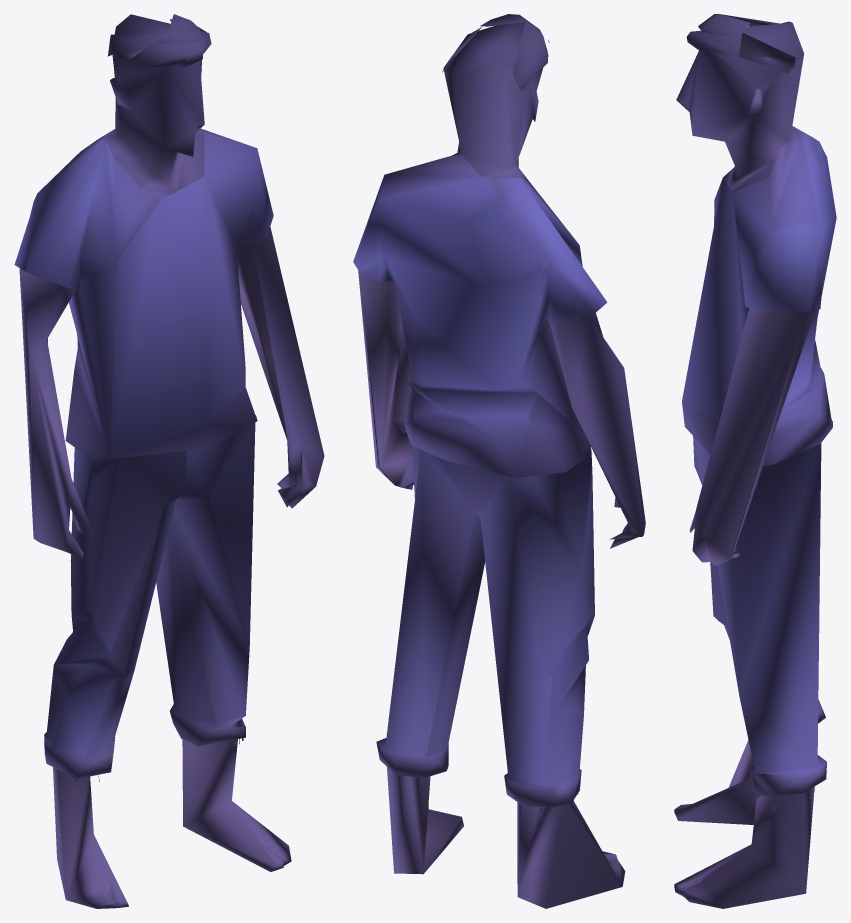
The model's file is model.progressive.glb.
3 views of the same model, side by side, from view 1: azimuth 30°, elevation 25°; view 2: azimuth 150°, elevation 25°; view 3: azimuth 270°, elevation 25° (orthographic).
Parts seen in each view (by area): view 1: material; view 2: material; view 3: material.
Part boxes in pixels (x1=…): material: x1=14, y1=14, x2=324, y2=908; material: x1=353, y1=14, x2=645, y2=908; material: x1=674, y1=14, x2=836, y2=908.
Bounding box in the file's own units: 0.6424 × 1.89 × 0.3319.
Materials: 1 (1 with a texture image).
